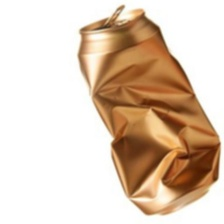can: (64, 3, 222, 215)
